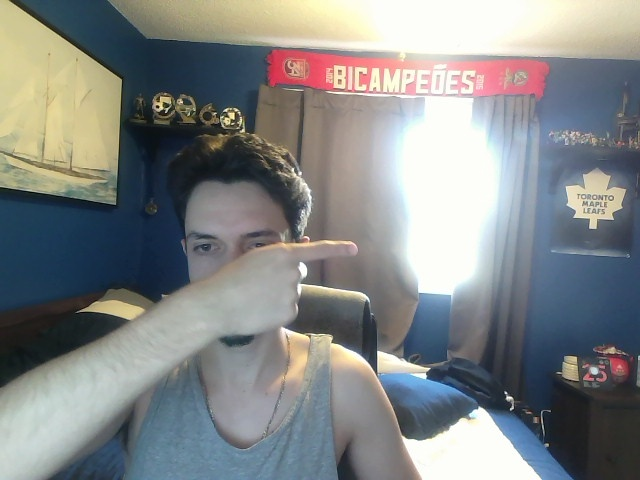Left: (207, 240, 359, 335)
